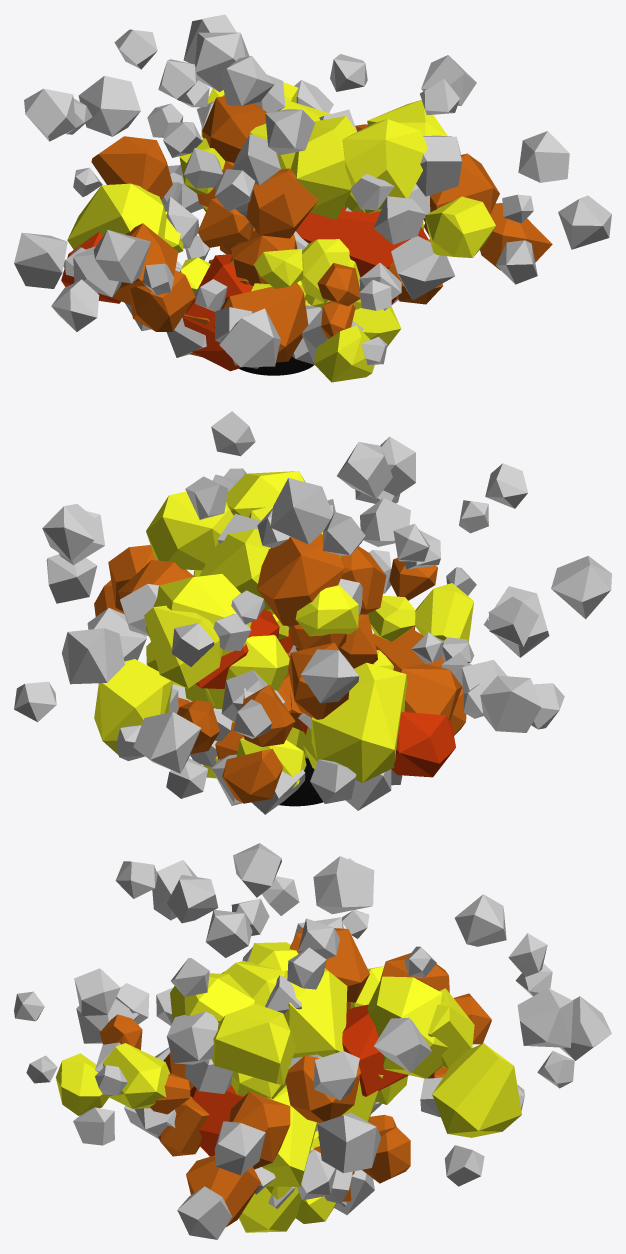
The model's file is Explosion0023.obj.
3 renders of one model, top to bottom at view 1: azimuth 30°, elevation 25°; view 2: azimuth 150°, elevation 25°; view 3: azimuth 270°, elevation 25°, orthographic. The views are drawn at different scales.
Parts seen in each view (by area): view 1: Cube_Material, Cube.002_Material.003, Cube.001_Material.002, Cube.003_Material.004, Circle_Material.001; view 2: Cube_Material, Cube.002_Material.003, Cube.001_Material.002, Cube.003_Material.004, Circle_Material.001; view 3: Cube_Material, Cube.002_Material.003, Cube.001_Material.002, Cube.003_Material.004.
Part boxes in pixels (left/top/right/bottom): Cube_Material: left=14, top=14, right=611, bottom=368; Cube.002_Material.003: left=67, top=82, right=495, bottom=382; Cube.001_Material.002: left=91, top=96, right=552, bottom=362; Cube.003_Material.004: left=61, top=206, right=428, bottom=371; Circle_Material.001: left=239, top=356, right=313, bottom=375; Cube_Material: left=14, top=411, right=611, bottom=814; Cube.002_Material.003: left=94, top=471, right=473, bottom=788; Cube.001_Material.002: left=94, top=533, right=466, bottom=803; Cube.003_Material.004: left=195, top=609, right=455, bottom=777; Circle_Material.001: left=279, top=758, right=323, bottom=806; Cube_Material: left=14, top=843, right=611, bottom=1239; Cube.002_Material.003: left=55, top=942, right=521, bottom=1232; Cube.001_Material.002: left=99, top=927, right=491, bottom=1226; Cube.003_Material.004: left=190, top=1004, right=408, bottom=1156.
Bounding box in the file's own units: 13.51 × 8.06 × 13.23.
